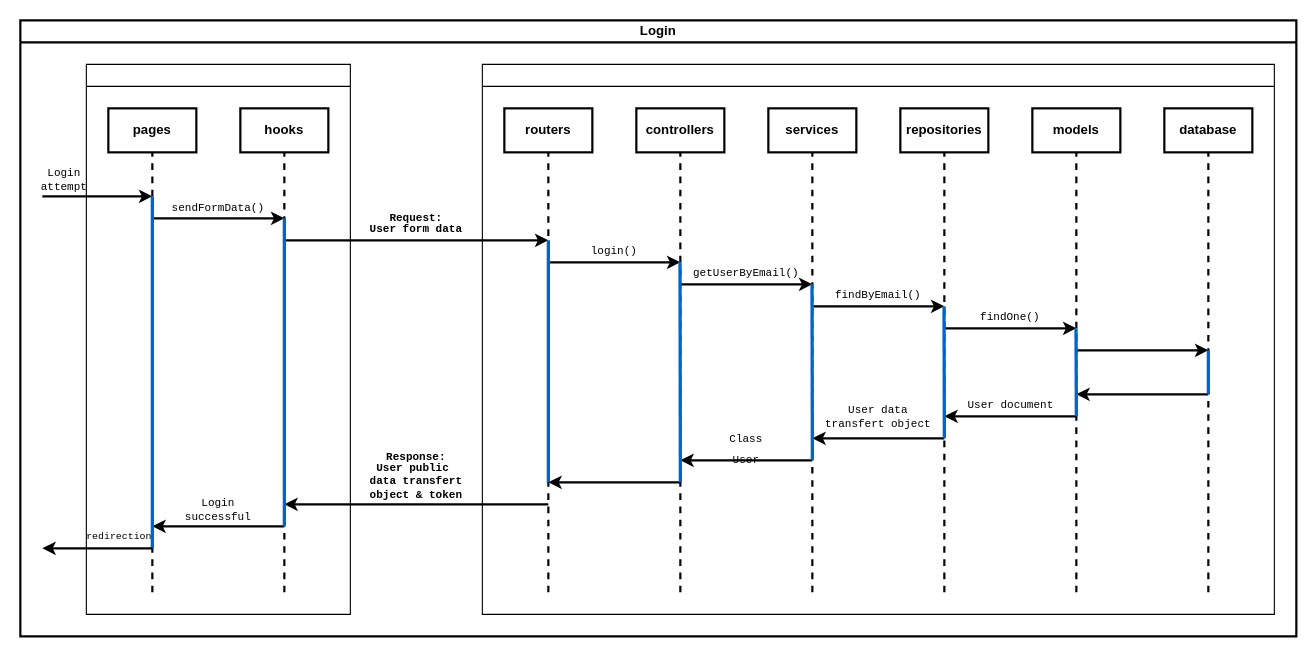
Image size: 1316x656. Some labels were removed from this diagram. Here are the shapes that lost their labels. From the top down, the box of each, then its label:
(85, 63, 350, 614): FrontEnd
(481, 63, 1274, 614): BackEnd
